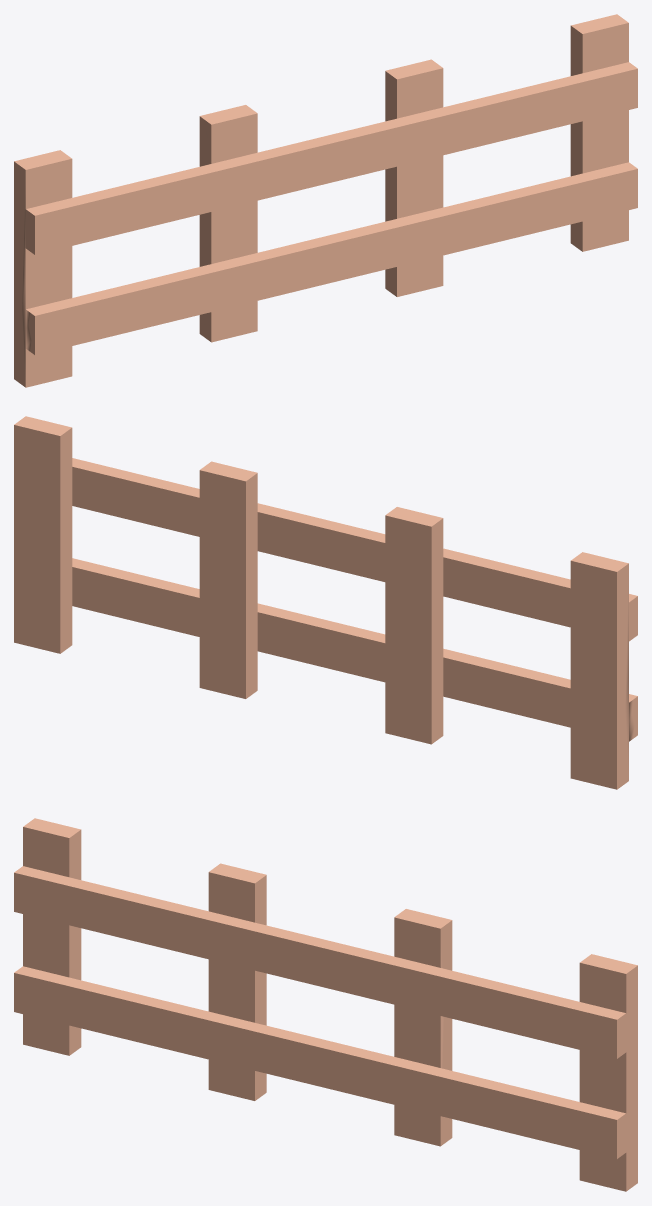
File: fence_planksDouble.fbx
The picture shows the model from 3 angles, top to bottom: view 1: azimuth 30°, elevation 25°; view 2: azimuth 150°, elevation 25°; view 3: azimuth 330°, elevation 25°; orthographic projection.
Visible parts, largest first — view 1: fence_planksDouble_LOD0; view 2: fence_planksDouble_LOD0; view 3: fence_planksDouble_LOD0.
Part boxes in pixels (<box>): fence_planksDouble_LOD0: <box>14,14,637,387</box>; fence_planksDouble_LOD0: <box>14,416,637,789</box>; fence_planksDouble_LOD0: <box>14,818,637,1191</box>.
Size of what is drawn, in the model's own units: 100 by 34.5 by 5.99.
